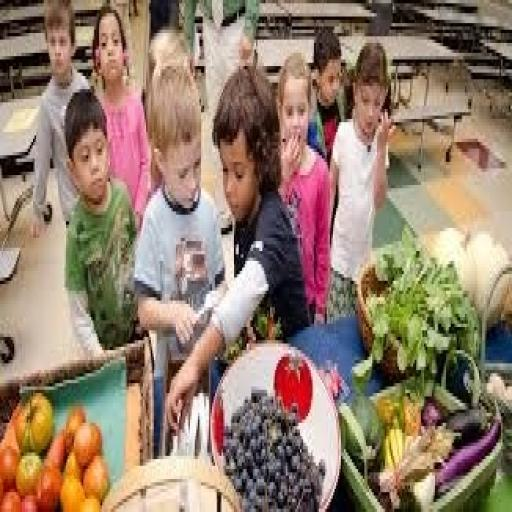eating: (28, 3, 399, 446)
